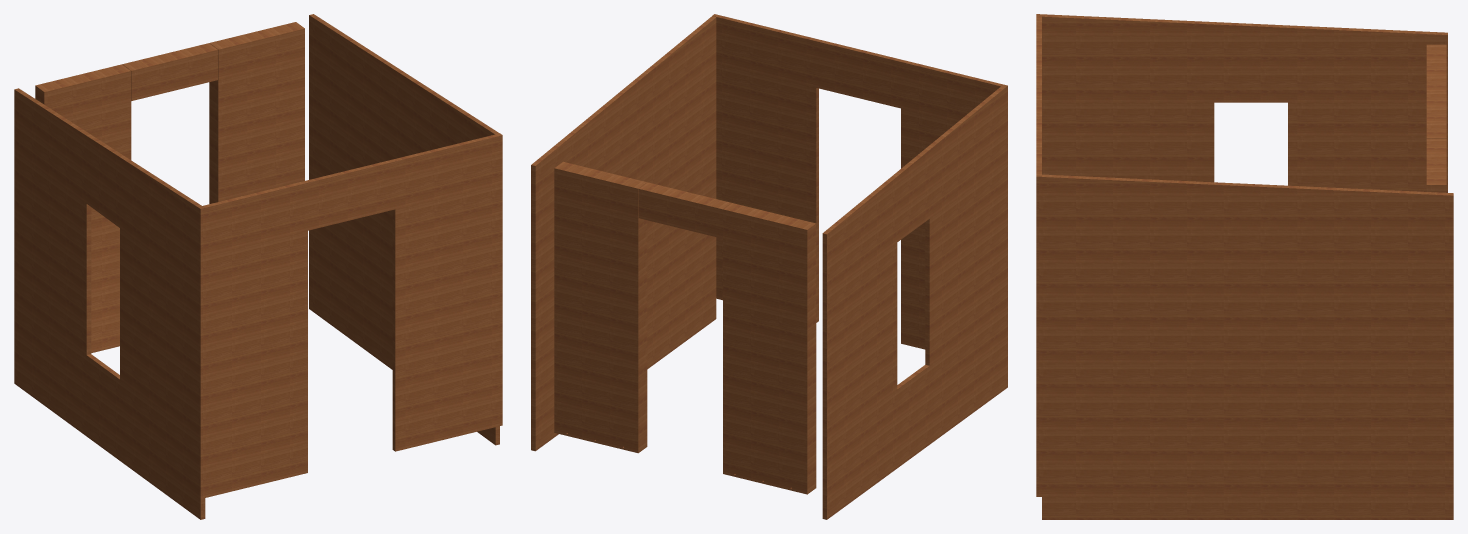
Rendered from exterior.glb.
3 views of the same model, side by side, from view 1: azimuth 30°, elevation 25°; view 2: azimuth 150°, elevation 25°; view 3: azimuth 270°, elevation 25° (orthographic). The views are drawn at different scales.
Parts seen in each view (by area): view 1: exterior wall 2; view 2: exterior wall 2; view 3: exterior wall 2.
Boxes of the visible parts, <box> form: exterior wall 2: <box>14,14,502,519</box>; exterior wall 2: <box>531,14,1007,519</box>; exterior wall 2: <box>1036,14,1453,519</box>.
Size of the model in its own units: 3.18 by 3.13 by 3.45.
1 material, 1 textured.
